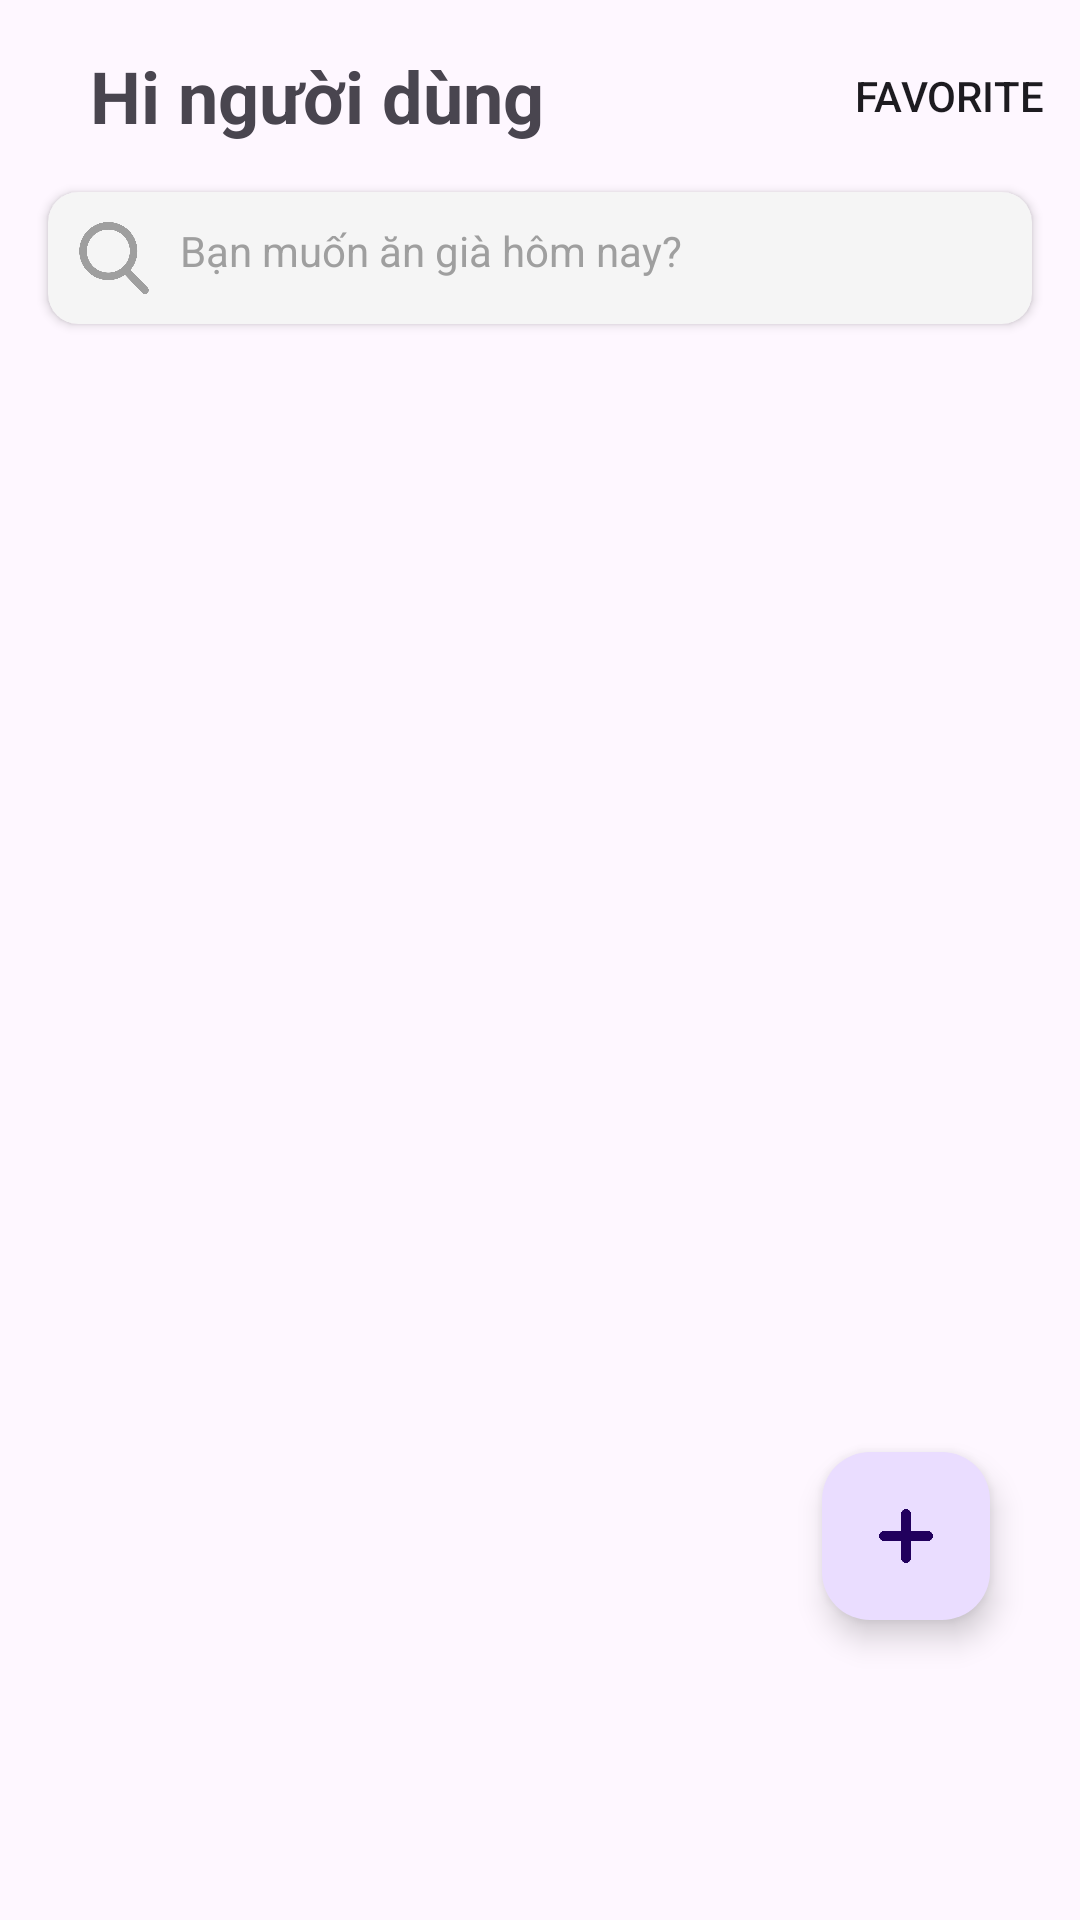

Named icons in this screenshot (1080 × 1920) and their centers, [x,y]:
plus: [906,1536]
search: [114,258]
